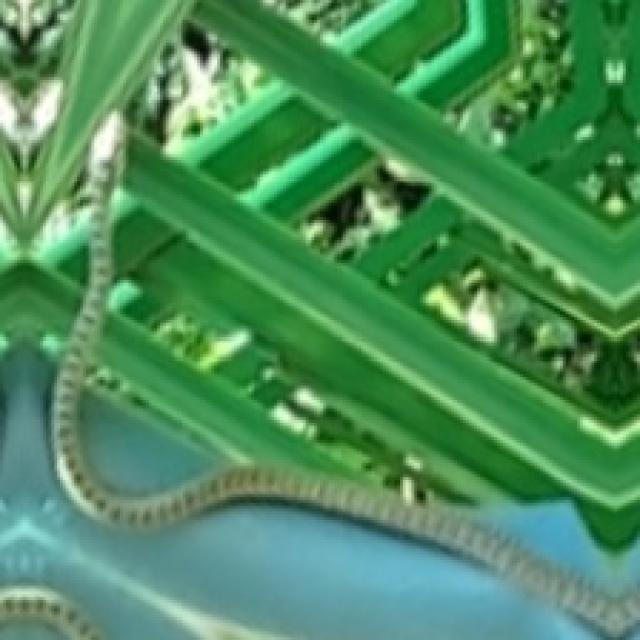paradise tree snake: (51, 111, 637, 634)
